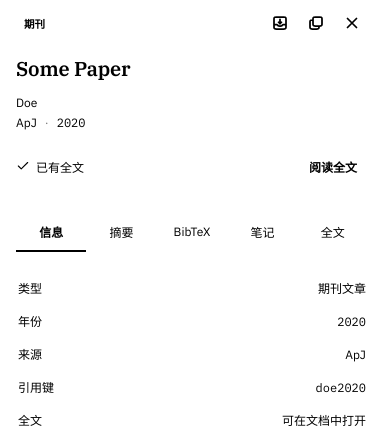
Test: RefDetail upload tracking › arXiv-ingested doc: the upload button is offered too (Stage 7 MS3 new-version semantics)
This screenshot has width=385, height=443.
Step 1. Click the tab "全文" → (333,233), box [298, 214, 368, 252]
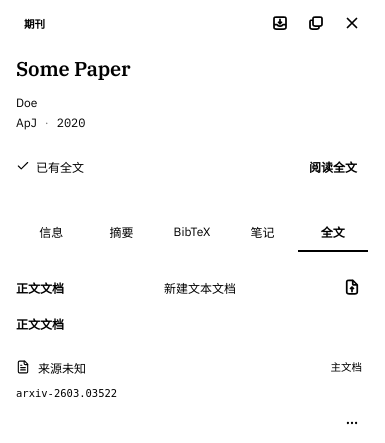
Result: the text "arxiv-2603.03522" is shown at [16, 387, 117, 399]
Result: the button named "添加 / 更新全文…" is enabled at [336, 271, 368, 303]
